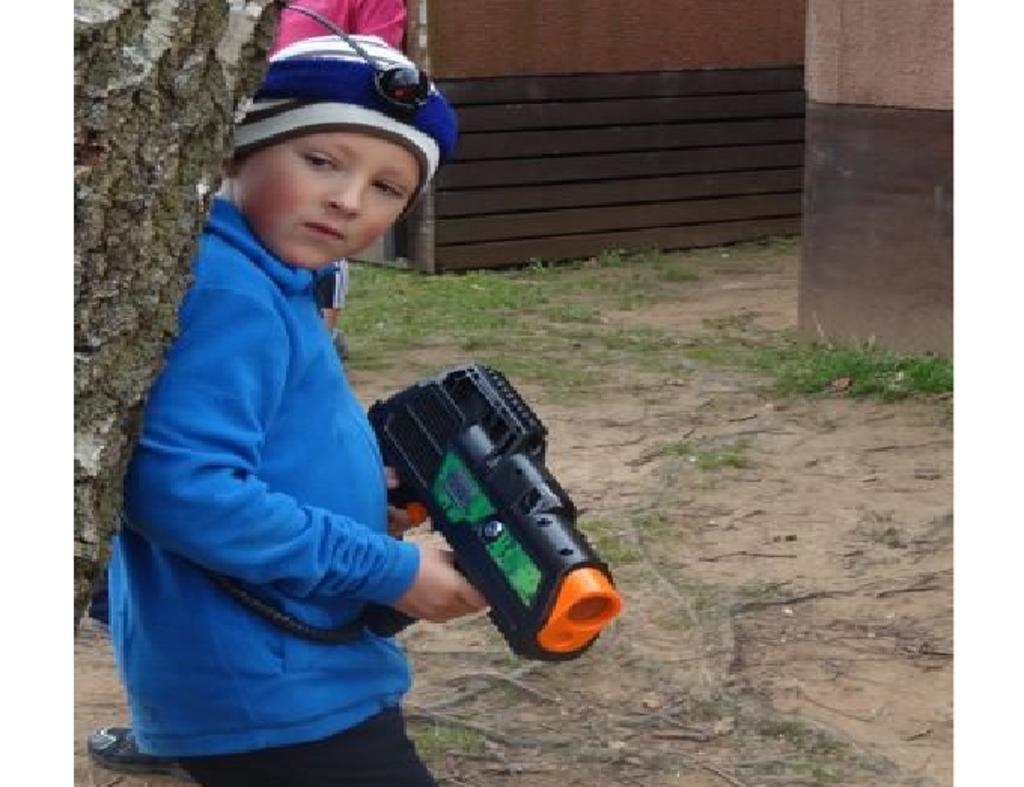face: (235, 107, 419, 267)
